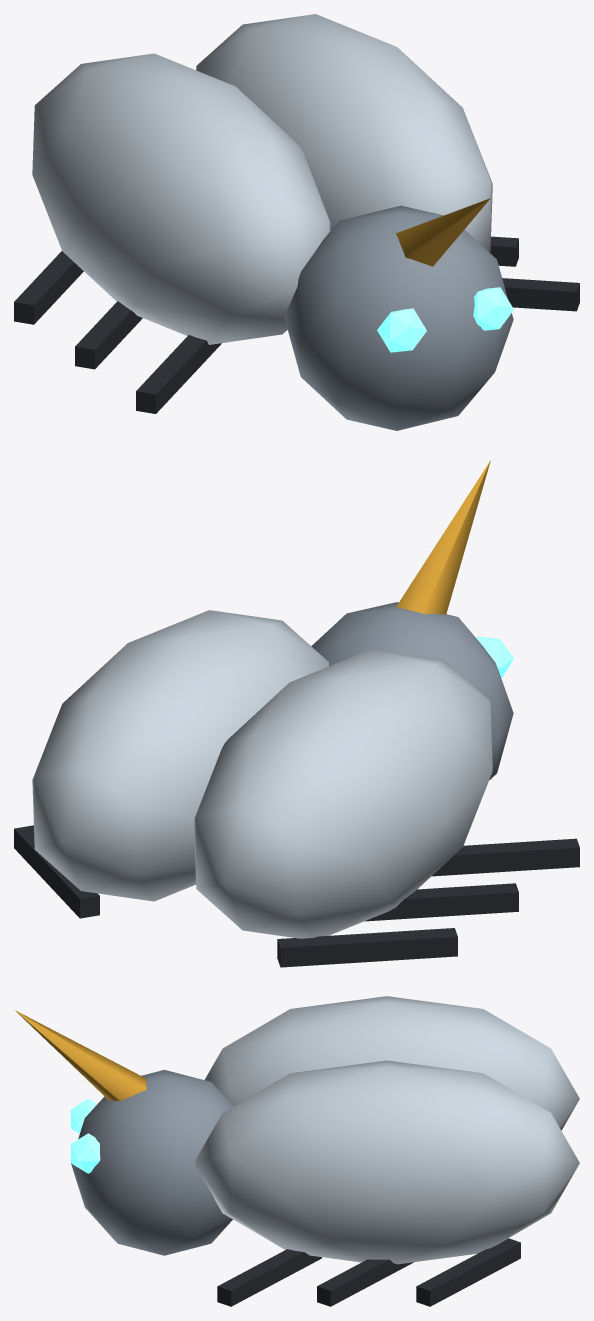
File: en_beetle.glb
3 views of the same model, one above another, from view 1: azimuth 30°, elevation 25°; view 2: azimuth 150°, elevation 25°; view 3: azimuth 270°, elevation 25° (orthographic). The views are drawn at different scales.
Parts seen in each view (by area): view 1: torso; view 2: torso; view 3: torso.
Part boxes in pixels (x1,y1,x2,y2): torso: (14,14,579,430); torso: (14,460,579,967); torso: (15,996,579,1306).
Size of the model in its own units: 0.7145 by 0.4488 by 0.9671.
